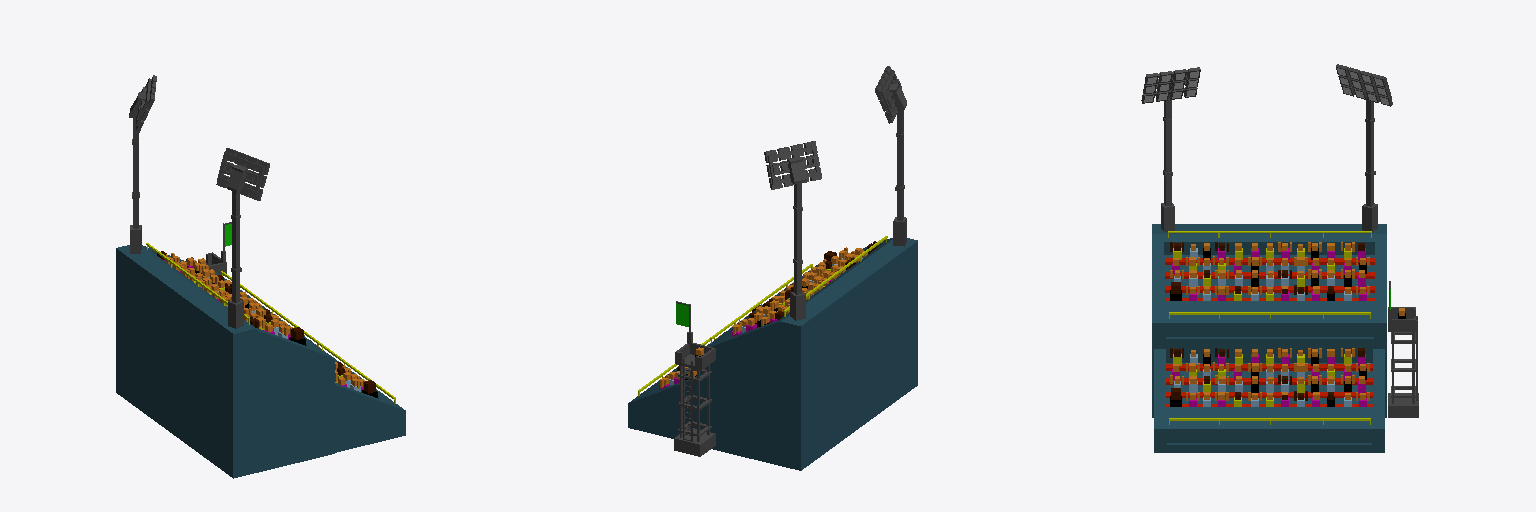
Rendered from Stadium_04.obj.
3 renders of one model, left to right at view 1: azimuth 30°, elevation 25°; view 2: azimuth 150°, elevation 25°; view 3: azimuth 270°, elevation 25°, orthographic.
Visible parts, largest first — view 1: Stadium_04_Mesh.022; view 2: Stadium_04_Mesh.022; view 3: Stadium_04_Mesh.022.
Boxes of the visible parts, box(x1,y1,x2,y2) form: Stadium_04_Mesh.022: box(116, 75, 405, 478); Stadium_04_Mesh.022: box(628, 66, 917, 470); Stadium_04_Mesh.022: box(1141, 64, 1418, 452).
Size of the model in its own units: 1.26 by 2.14 by 1.73.